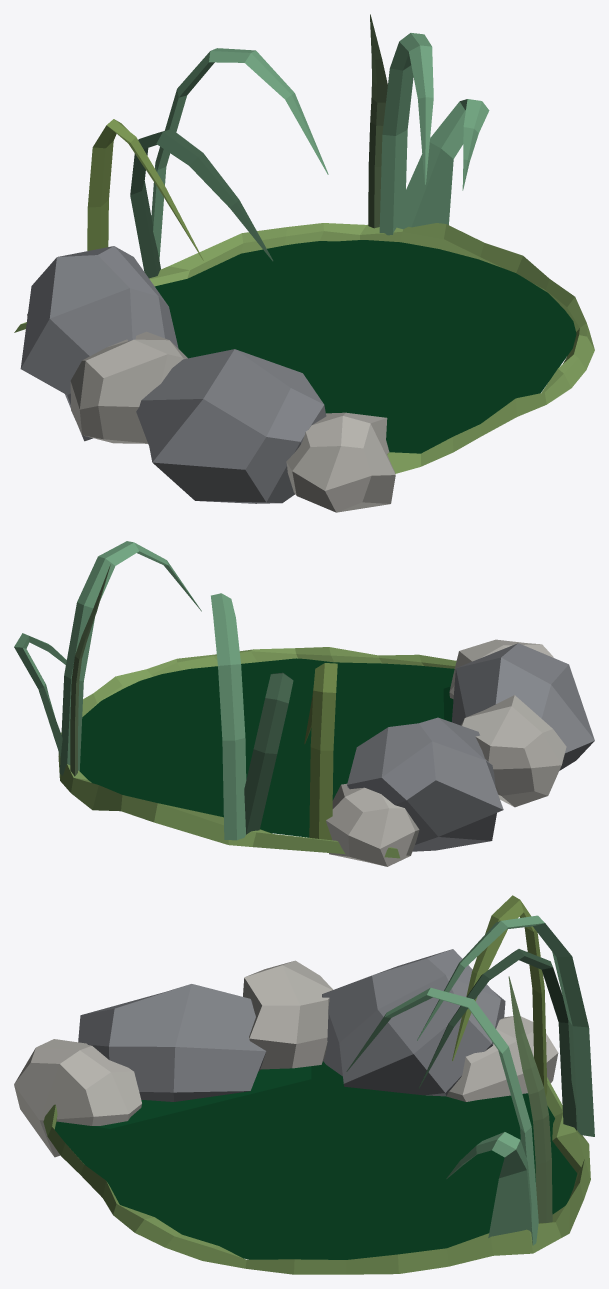
Rendered from waterSpringPop.glb.
The picture shows the model from 3 angles, top to bottom: view 1: azimuth 30°, elevation 25°; view 2: azimuth 150°, elevation 25°; view 3: azimuth 270°, elevation 25°; orthographic projection. The views are drawn at different scales.
Visible parts, largest first — view 1: water, rock2, rock4, Plane, rock1, rock3, weeds, weeds.003, weeds.005, weeds.001, weeds.004, weeds.002; view 2: water, rock4, Plane, rock2, rock3, weeds.001, rock5, weeds, weeds.004, weeds.005, weeds.003, weeds.002 (+1 smaller); view 3: water, rock4, rock2, Plane, rock1, rock3, weeds.001, rock5, weeds.003, weeds, weeds.004, weeds.002 (+1 smaller).
Part boxes in pixels (bbox=[...]): water: bbox=[155, 240, 576, 453]; rock2: bbox=[136, 349, 326, 503]; rock4: bbox=[20, 246, 178, 441]; Plane: bbox=[14, 223, 594, 473]; rock1: bbox=[286, 412, 395, 512]; rock3: bbox=[70, 331, 187, 443]; weeds: bbox=[379, 33, 433, 235]; weeds.003: bbox=[396, 99, 489, 229]; weeds.005: bbox=[130, 129, 273, 278]; weeds.001: bbox=[151, 48, 328, 259]; weeds.004: bbox=[87, 119, 203, 260]; weeds.002: bbox=[368, 14, 387, 228]; water: bbox=[79, 658, 454, 837]; rock4: bbox=[347, 717, 503, 851]; Plane: bbox=[58, 647, 456, 858]; rock2: bbox=[452, 643, 594, 770]; rock3: bbox=[461, 695, 566, 807]; weeds.001: bbox=[211, 593, 246, 840]; rock5: bbox=[326, 783, 419, 866]; weeds: bbox=[59, 541, 201, 775]; weeds.004: bbox=[304, 663, 337, 840]; weeds.005: bbox=[244, 672, 293, 834]; weeds.003: bbox=[14, 633, 66, 756]; weeds.002: bbox=[70, 564, 110, 776]; water: bbox=[54, 1061, 577, 1259]; rock4: bbox=[322, 949, 505, 1096]; rock2: bbox=[78, 984, 266, 1101]; Plane: bbox=[43, 1077, 590, 1274]; rock1: bbox=[14, 1039, 141, 1157]; rock3: bbox=[243, 960, 332, 1069]; weeds.001: bbox=[417, 915, 594, 1136]; rock5: bbox=[446, 1016, 558, 1101]; weeds.003: bbox=[446, 1132, 531, 1237]; weeds: bbox=[346, 987, 538, 1245]; weeds.004: bbox=[452, 895, 547, 1096]; weeds.002: bbox=[508, 976, 552, 1222].
Size of the model in its own units: 2.12 by 1.19 by 2.04.
